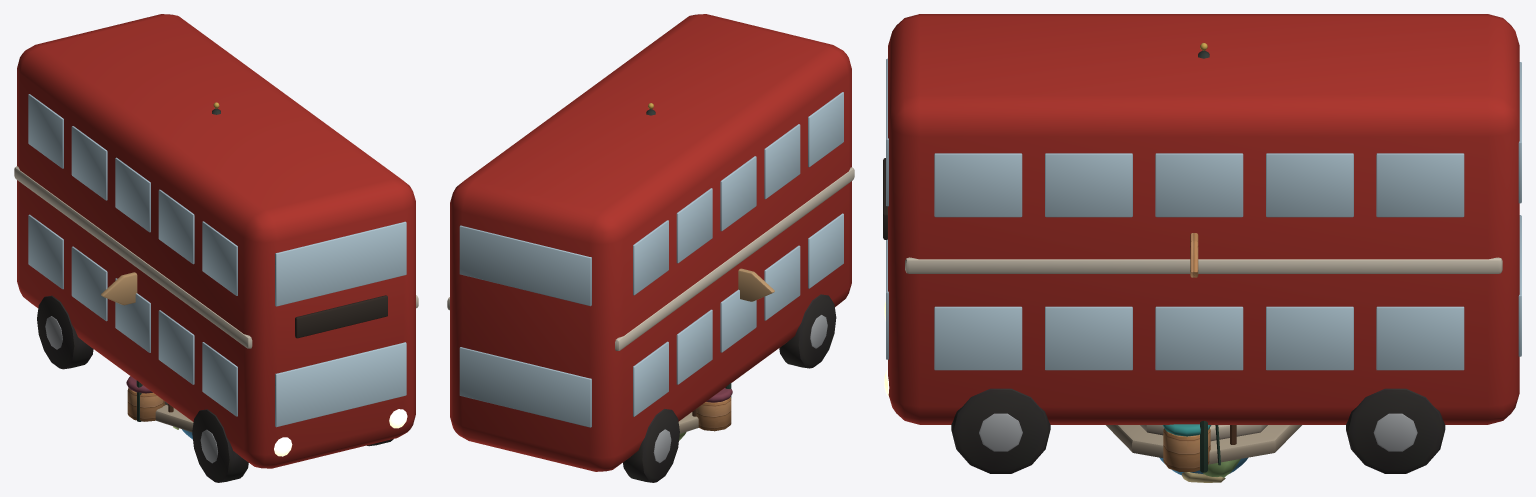
File: street-props.glb
The picture shows the model from 3 angles, left to right: view 1: azimuth 30°, elevation 25°; view 2: azimuth 150°, elevation 25°; view 3: azimuth 270°, elevation 25°; orthographic projection. The views are drawn at different scales.
Visible parts, largest first — view 1: Bus, TeaTable, Signpost, TravelGlobe; view 2: Bus, TeaTable, Signpost; view 3: Bus, TravelGlobe, TeaTable, TravelGlobeBall.
Part boxes in pixels (bbox=[...]): Bus: bbox=[14, 14, 418, 482]; TeaTable: bbox=[126, 376, 163, 421]; Signpost: bbox=[101, 272, 137, 305]; TravelGlobe: bbox=[155, 401, 193, 432]; Bus: bbox=[447, 14, 854, 482]; TeaTable: bbox=[696, 388, 732, 431]; Signpost: bbox=[738, 268, 774, 301]; Bus: bbox=[883, 14, 1521, 473]; TravelGlobe: bbox=[1106, 425, 1301, 464]; TeaTable: bbox=[1162, 424, 1211, 471]; TravelGlobeBall: bbox=[1159, 457, 1247, 482].
Size of the model in its own units: 3.08 by 4.22 by 5.66.
12 materials, 2 textured.
